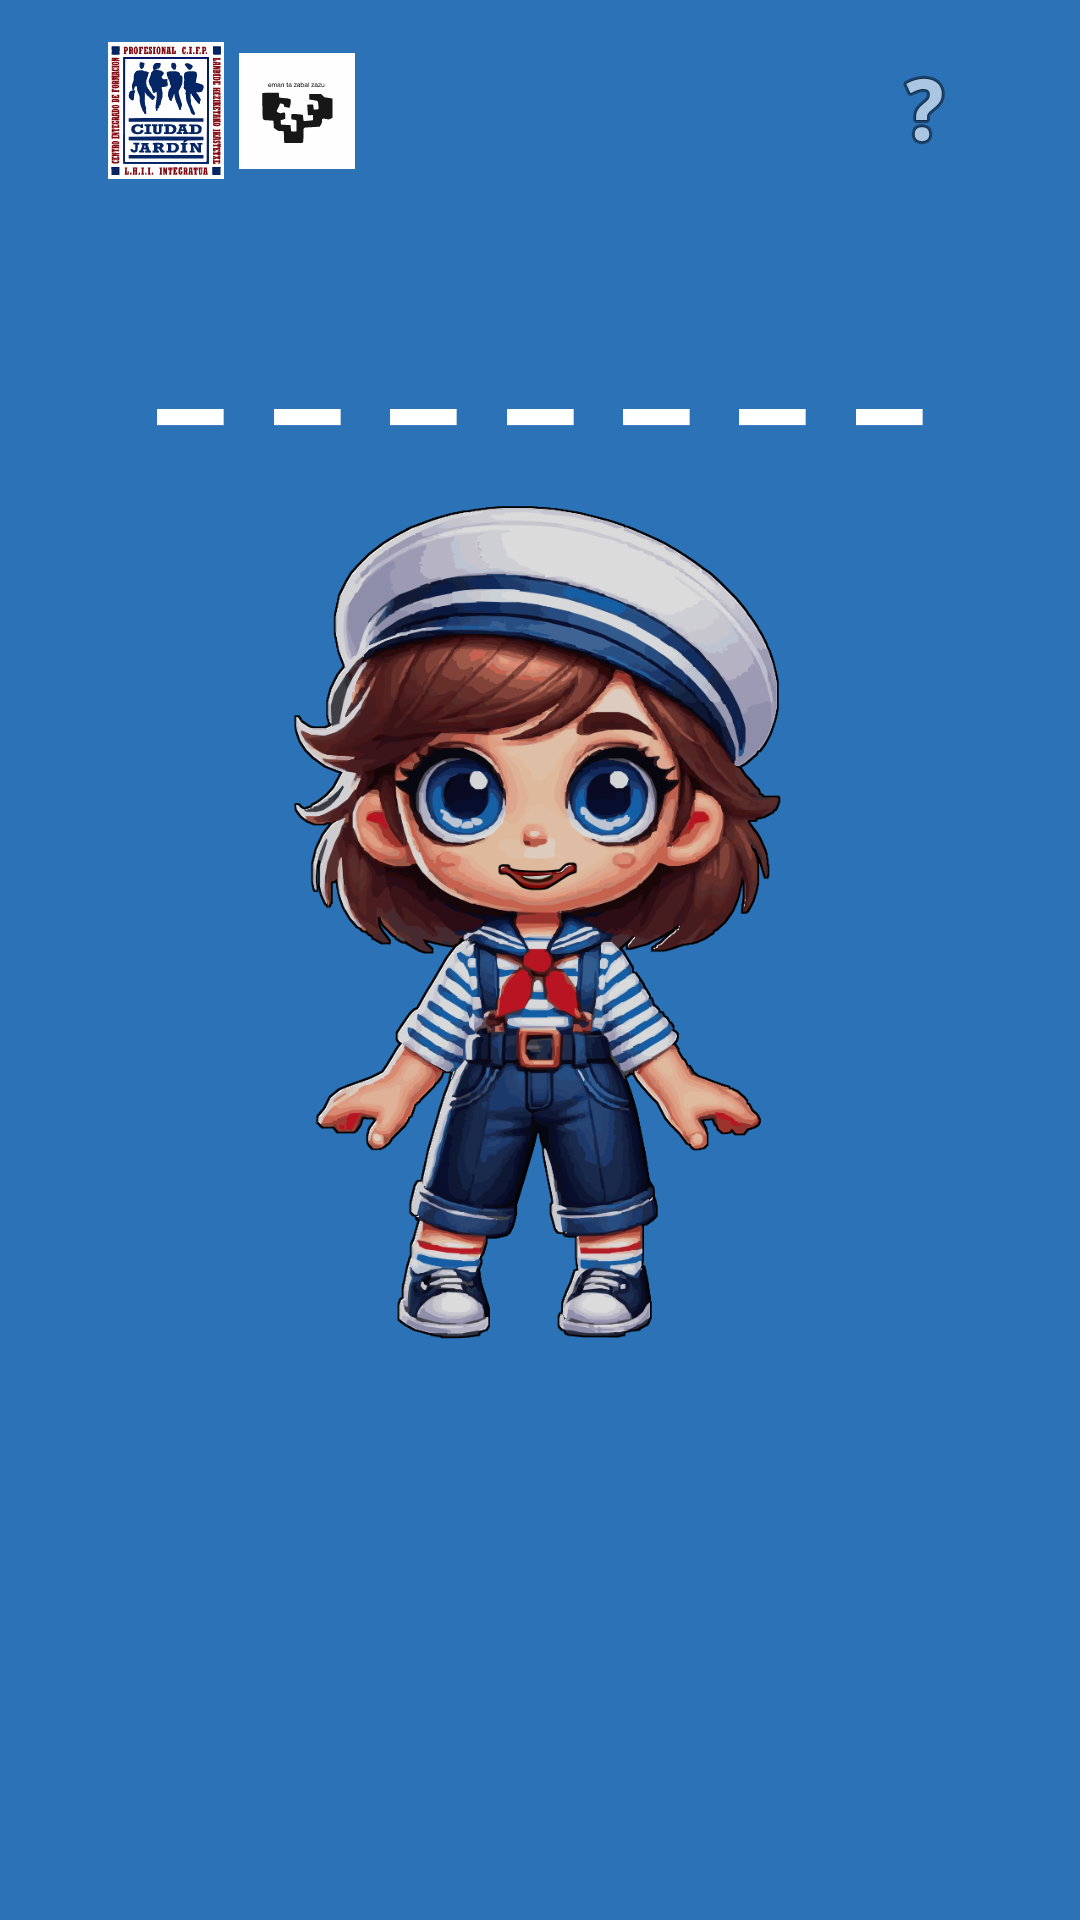

Icon bounding boxes for this 1080w x 1920h phone screenshot, format detection(x1, y1, x2, y2):
help: detection(903, 76, 945, 144)
